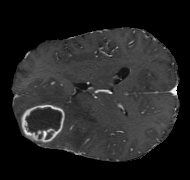Edema: (17, 85, 103, 151)
EnhancingTumors: (22, 104, 63, 140)
Necrosis: (26, 107, 59, 134)
